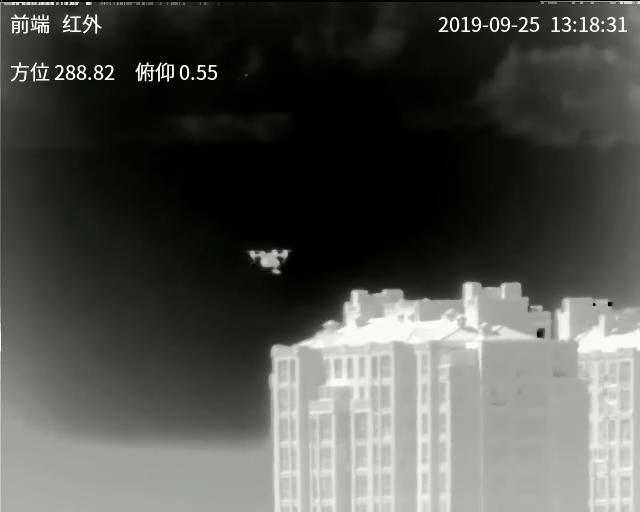uav: (246, 246, 290, 275)
